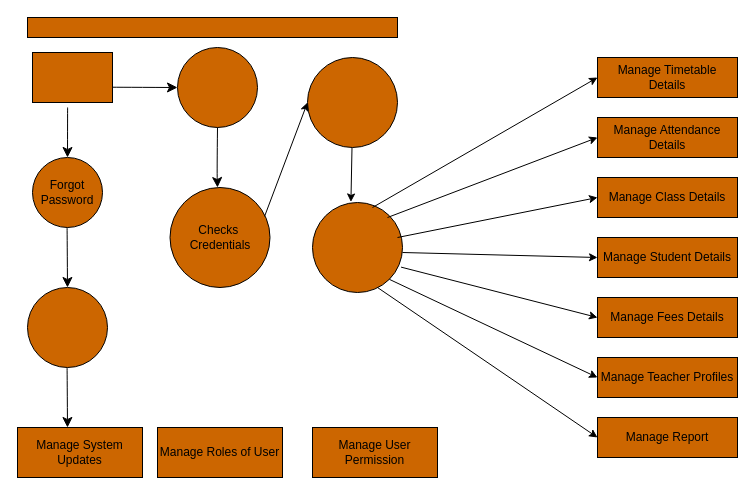
The diagram is 755 pixels wide and 495 high, and some of its shapes have lost their labels. The shapes that lost their labels are listed below. From the top down, each one's box as (x1, y1, x2, y2) in pixels, then its label:
(26, 16, 398, 38): Student Infromation System
(32, 52, 112, 102): Admin
(176, 46, 258, 128): Login to system
(306, 56, 398, 148): Checks Roles of Access
(312, 202, 402, 292): MAnage modules
(26, 286, 108, 368): Send Email to user
